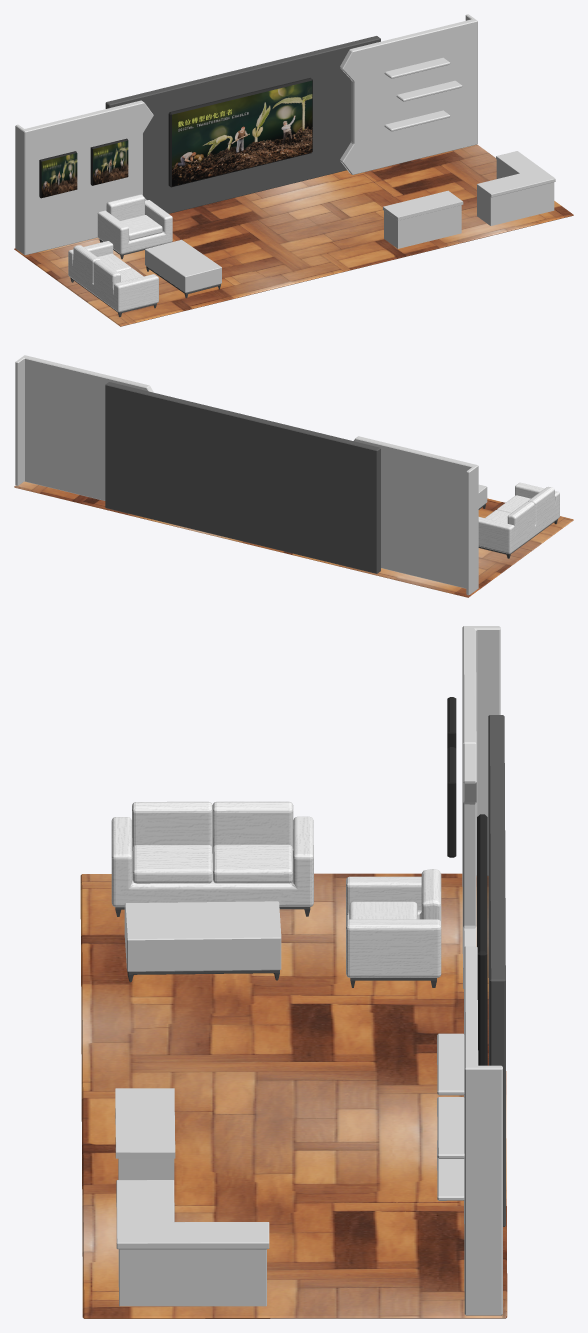
The model's file is stage_booth.fbx.
3 renders of one model, top to bottom at view 1: azimuth 30°, elevation 25°; view 2: azimuth 150°, elevation 25°; view 3: azimuth 270°, elevation 25°, orthographic. The views are drawn at different scales.
Visible parts, largest first — view 1: booth_stage, mainTV, intro_table_L, safa_2, intro_table, safa_1, safa_table, tv-1, tv-2; view 2: booth_stage, safa_2; view 3: booth_stage, safa_2, intro_table_L, safa_table, safa_1, intro_table, mainTV, tv-2.
Part boxes in pixels (box(x1,y1,x2,y2)): booth_stage: box(14, 14, 573, 326); mainTV: box(168, 77, 312, 187); intro_table_L: box(477, 151, 555, 225); safa_2: box(68, 241, 158, 316); intro_table: box(383, 190, 463, 248); safa_1: box(97, 194, 172, 259); safa_table: box(145, 239, 221, 298); tv-1: box(39, 151, 77, 198); tv-2: box(90, 138, 128, 185); booth_stage: box(14, 355, 573, 597); safa_2: box(478, 482, 559, 558); booth_stage: box(80, 626, 507, 1318); safa_2: box(111, 801, 313, 916); intro_table_L: box(116, 1180, 269, 1306); safa_table: box(124, 901, 281, 982); safa_1: box(346, 869, 441, 987); intro_table: box(115, 1088, 175, 1179); mainTV: box(477, 814, 487, 1065); tv-2: box(447, 747, 456, 857).
Bounding box in the file's own units: 1003 × 264 × 408.
Materials: 6 (4 with a texture image).
